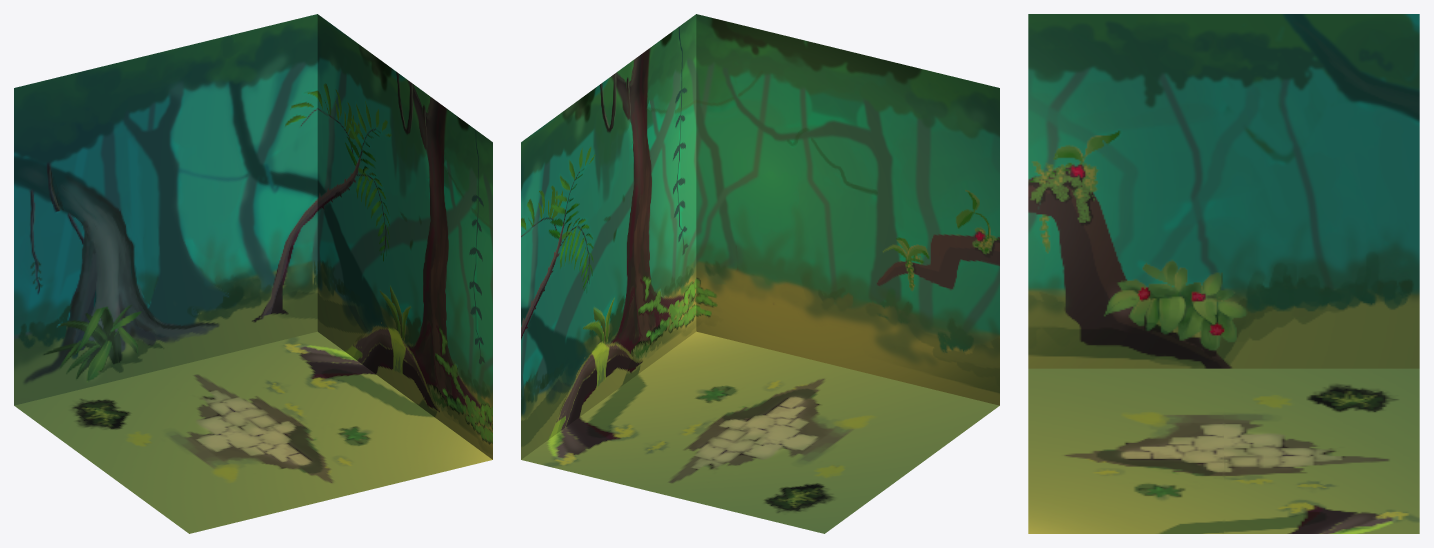
File: jungle_skybox.gltf
The picture shows the model from 3 angles, left to right: view 1: azimuth 30°, elevation 25°; view 2: azimuth 150°, elevation 25°; view 3: azimuth 270°, elevation 25°; orthographic projection. The views are drawn at different scales.
Visible parts, largest first — view 1: egypt_skybox_glb; view 2: egypt_skybox_glb; view 3: egypt_skybox_glb.
Boxes of the visible parts, x1,y1,x2,y2 form: egypt_skybox_glb: (14, 14, 492, 533); egypt_skybox_glb: (521, 14, 999, 533); egypt_skybox_glb: (1028, 14, 1419, 533).
Size of what is drawn, in the model's own units: 48 by 48 by 48.
1 material, 1 textured.
